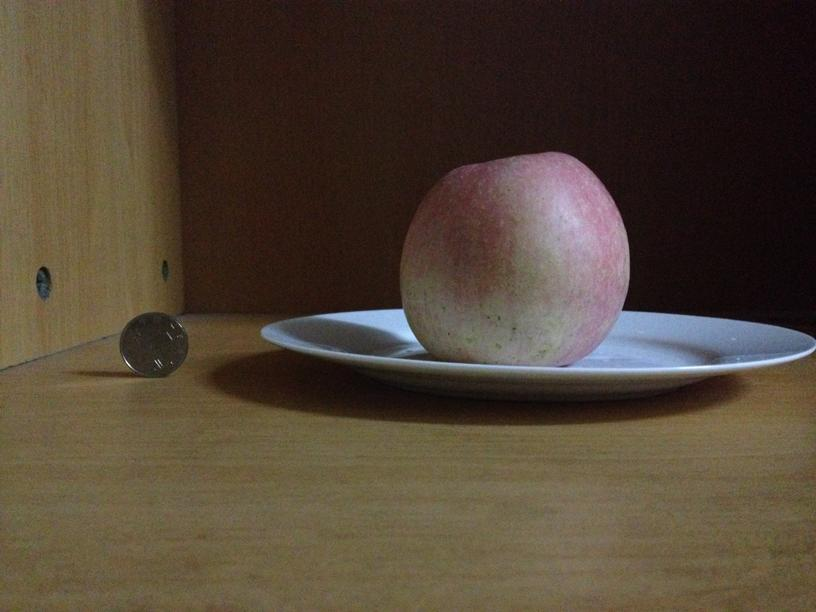apple: (394, 147, 630, 365)
coin: (119, 312, 190, 378)
